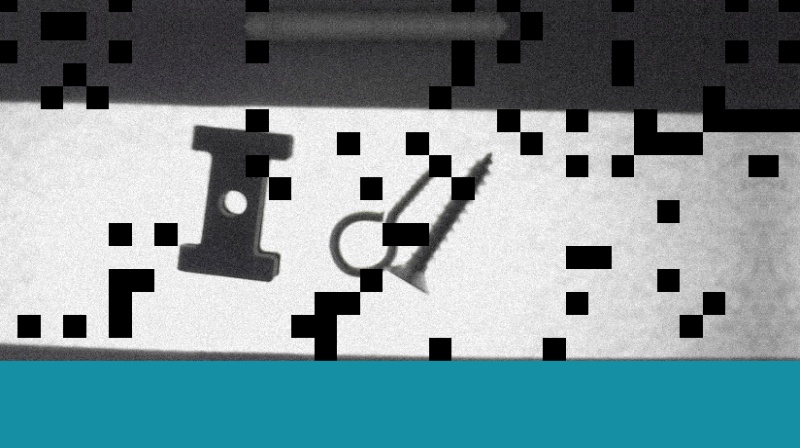O001: (327, 159, 444, 278)
O002: (173, 123, 295, 280)
S001: (384, 147, 494, 295)
